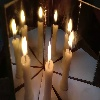fire: (47, 41, 52, 62)
